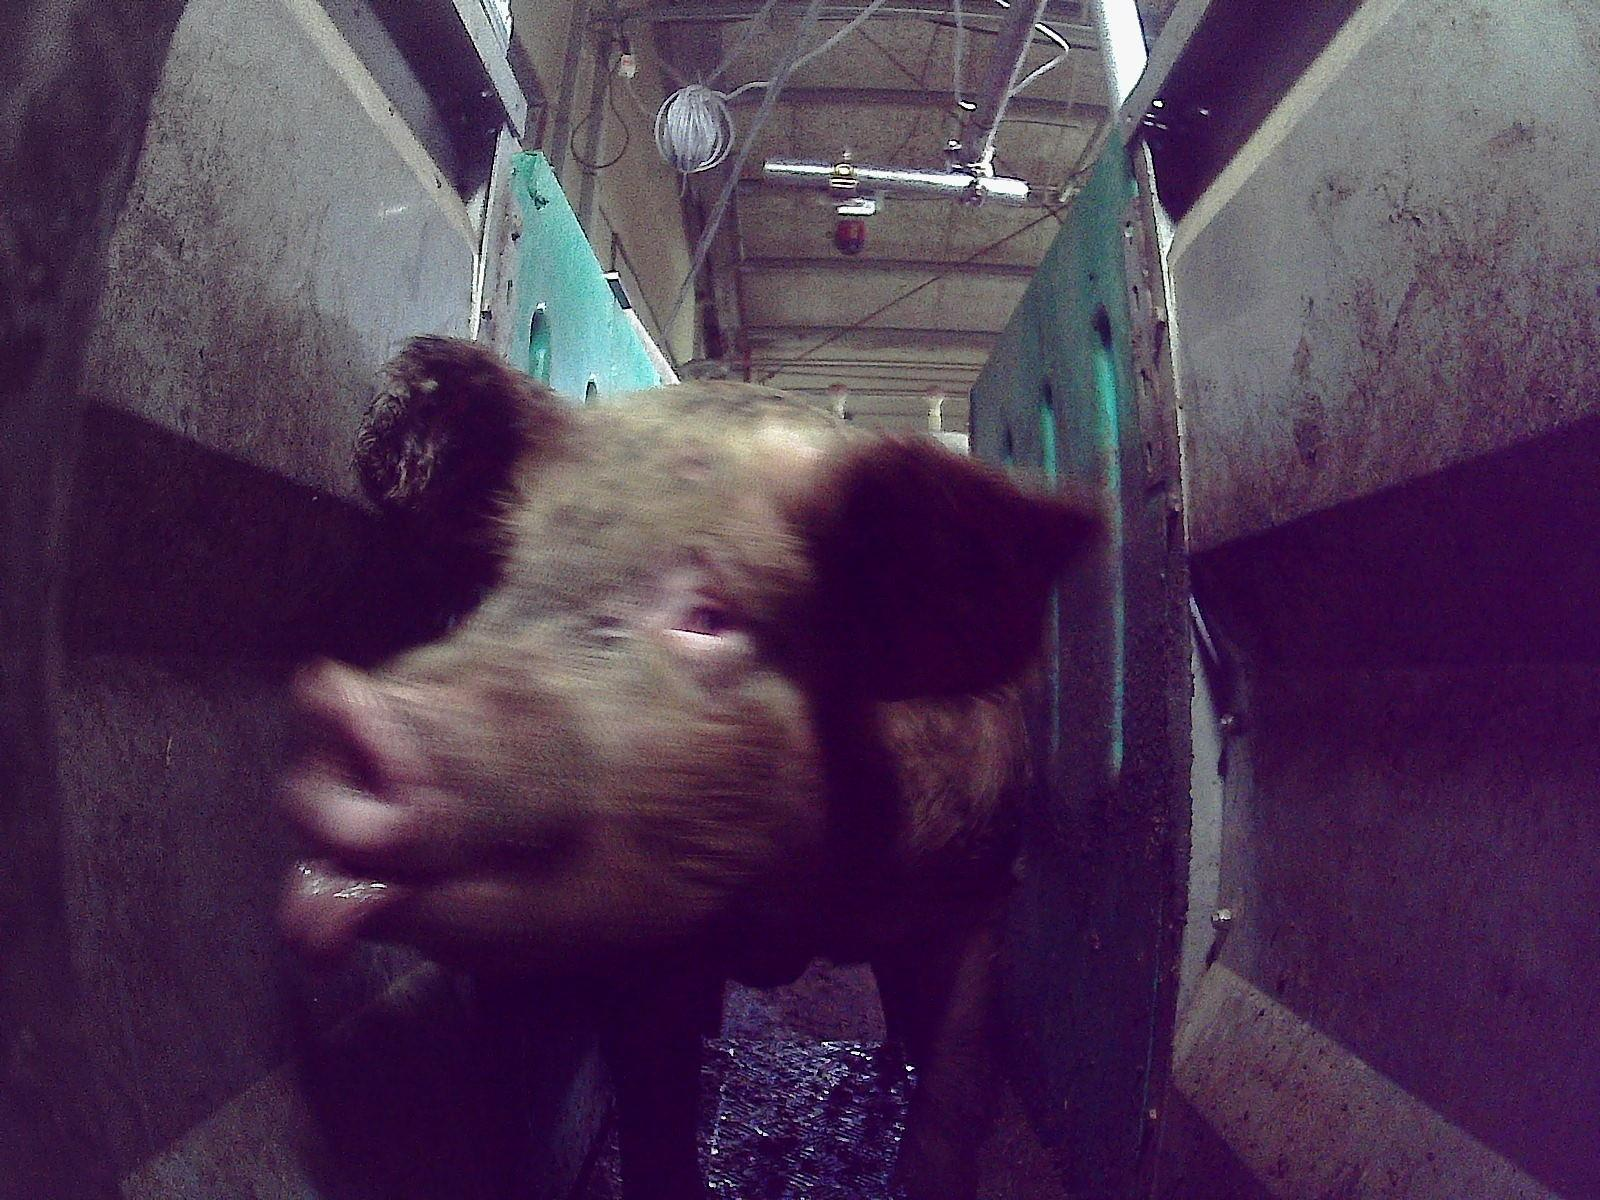Face: (270, 404, 884, 971)
